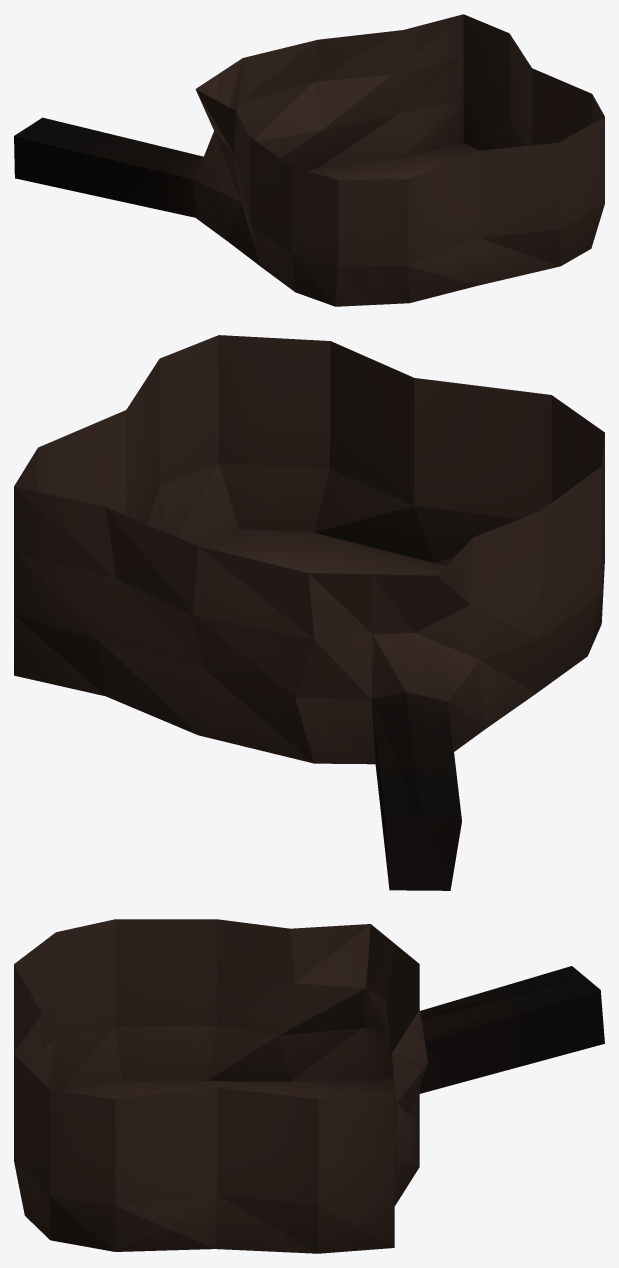
File: level.obj
The picture shows the model from 3 angles, top to bottom: view 1: azimuth 30°, elevation 25°; view 2: azimuth 150°, elevation 25°; view 3: azimuth 270°, elevation 25°; orthographic projection. The views are drawn at different scales.
Visible parts, largest first — view 1: Plane.001; view 2: Plane.001; view 3: Plane.001.
Boxes of the visible parts, x1,y1,x2,y2 form: Plane.001: [14, 14, 604, 306]; Plane.001: [14, 335, 604, 890]; Plane.001: [14, 919, 604, 1253].
Size of the model in its own units: 130 by 41.38 by 139.
1 material, 1 textured.
